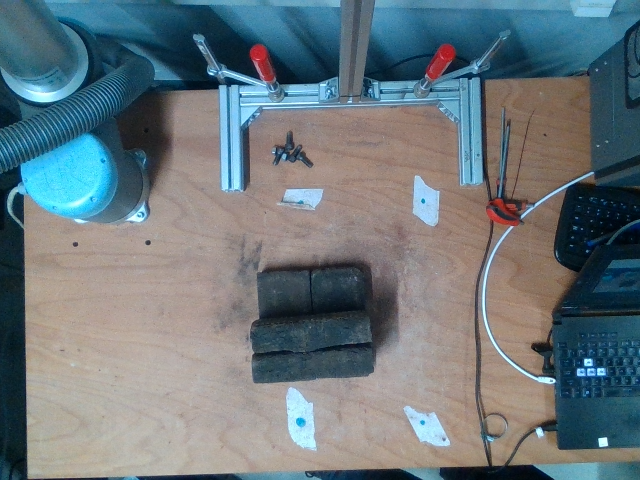brick-side: (252, 318, 367, 352), (256, 351, 371, 385)
